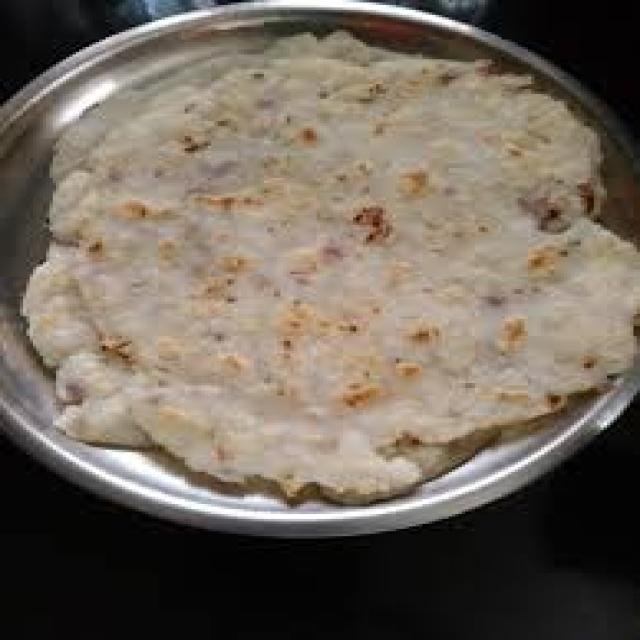RICE BHAKRI: (20, 34, 637, 506)
